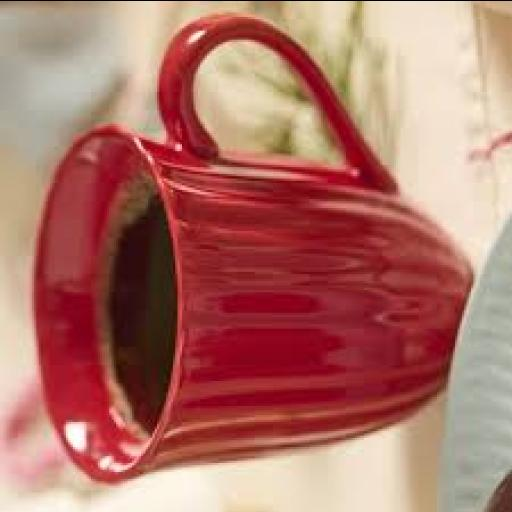red mug: (35, 15, 471, 481)
